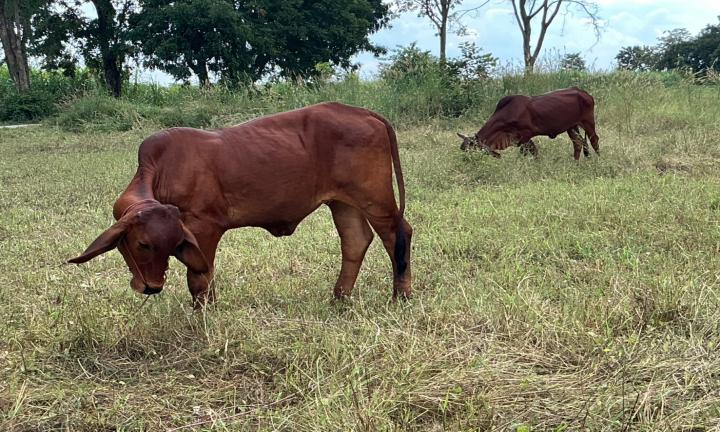Brahman: (68, 102, 412, 308), (457, 87, 598, 159)
